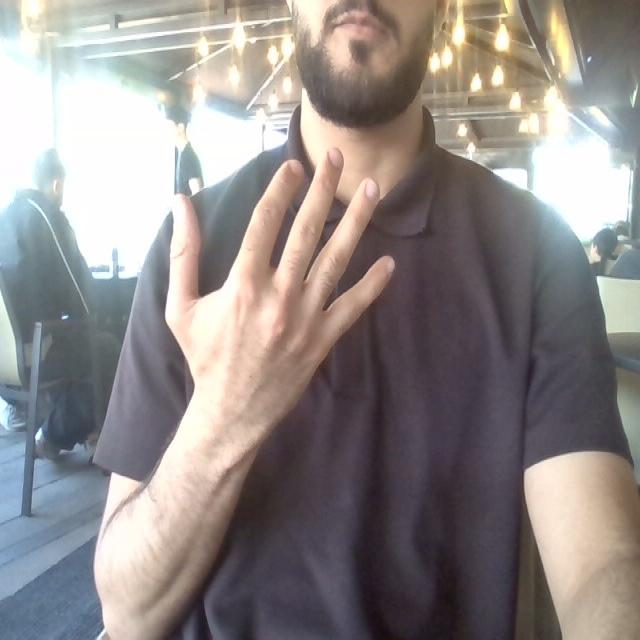Hand: (166, 150, 393, 442)
